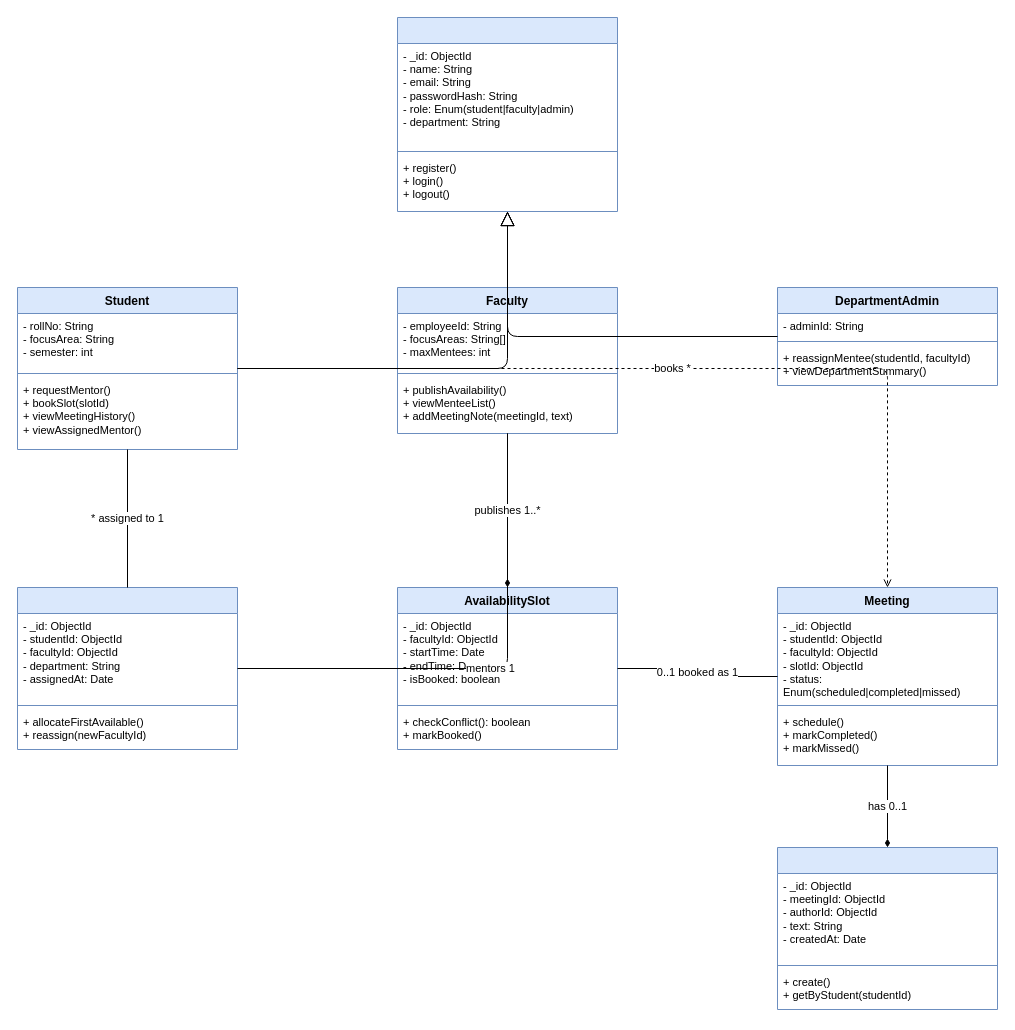
Image size: 1015x1030. Some labels were removed from this diagram. The shapes that lost their labels are listed below. From the top down, each one's box as (x1, y1, x2, y2) in pixels, then its label:
(396, 16, 618, 212): User
(16, 586, 238, 750): Assignment
(776, 846, 998, 1010): MeetingNote
